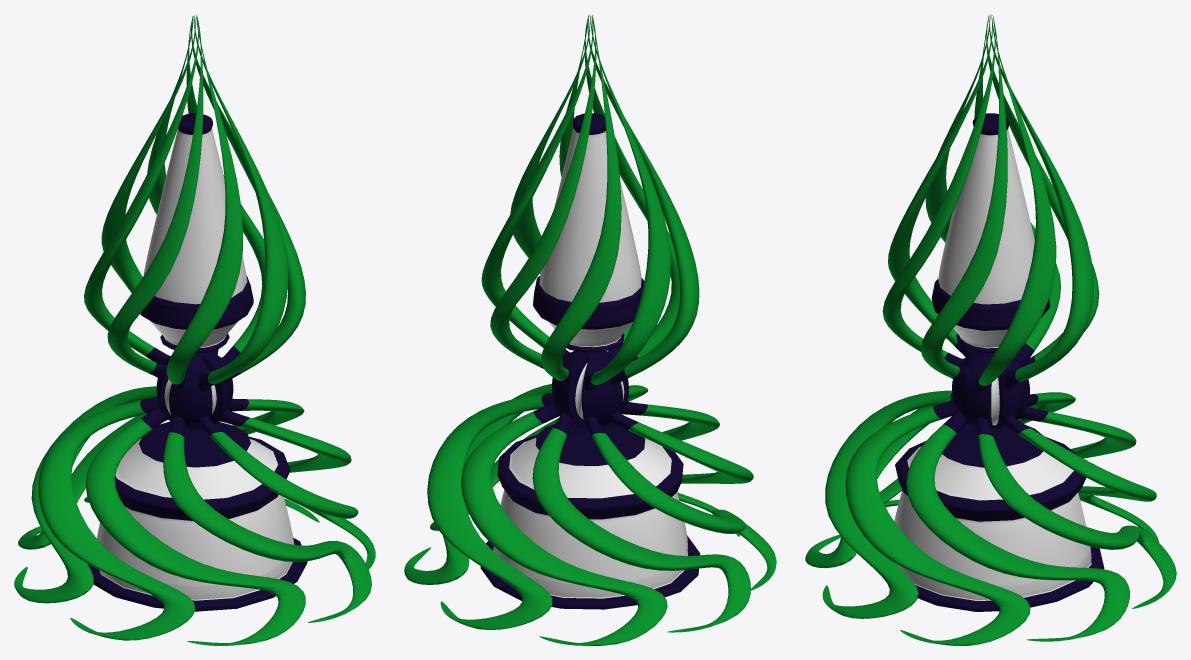
The model's file is AlienBuilding.fbx.
3 views of the same model, side by side, from view 1: azimuth 30°, elevation 25°; view 2: azimuth 150°, elevation 25°; view 3: azimuth 270°, elevation 25° (orthographic).
Parts seen in each view (by area): view 1: Alien Tower - Palatte 3|Alien Tower - Outer.001|Dupli|, Alien Tower - Palatte 3|Alien Tower - Inner.001|Dupli|1; view 2: Alien Tower - Palatte 3|Alien Tower - Outer.001|Dupli|, Alien Tower - Palatte 3|Alien Tower - Inner.001|Dupli|1; view 3: Alien Tower - Palatte 3|Alien Tower - Outer.001|Dupli|, Alien Tower - Palatte 3|Alien Tower - Inner.001|Dupli|1.
Boxes of the visible parts, x1,y1,x2,y2 form: Alien Tower - Palatte 3|Alien Tower - Outer.001|Dupli|: [14, 14, 375, 645]; Alien Tower - Palatte 3|Alien Tower - Inner.001|Dupli|1: [87, 113, 307, 611]; Alien Tower - Palatte 3|Alien Tower - Outer.001|Dupli|: [404, 14, 776, 645]; Alien Tower - Palatte 3|Alien Tower - Inner.001|Dupli|1: [480, 113, 700, 609]; Alien Tower - Palatte 3|Alien Tower - Outer.001|Dupli|: [805, 14, 1176, 645]; Alien Tower - Palatte 3|Alien Tower - Inner.001|Dupli|1: [894, 113, 1104, 611].
Size of the model in its own units: 3894 by 6434 by 3894.
